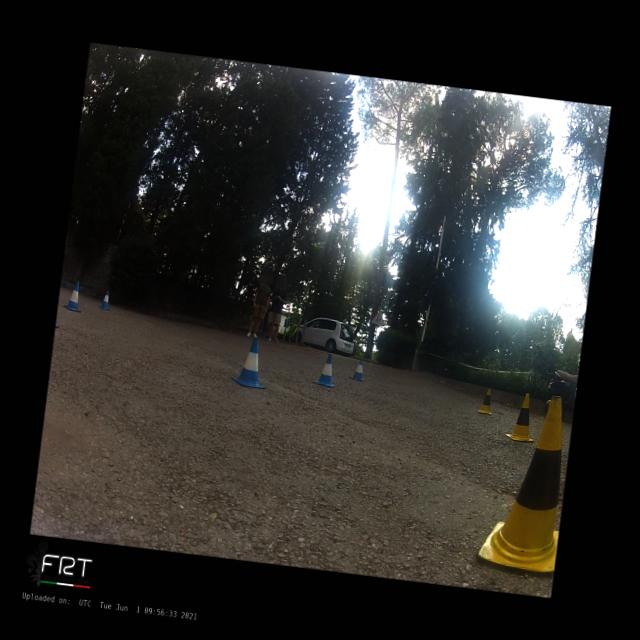blue_cone: (230, 336, 272, 388), (314, 352, 338, 388), (62, 278, 84, 312), (349, 357, 368, 381), (98, 289, 112, 310)
yellow_cone: (476, 388, 575, 574), (504, 390, 540, 442), (478, 386, 494, 415)
